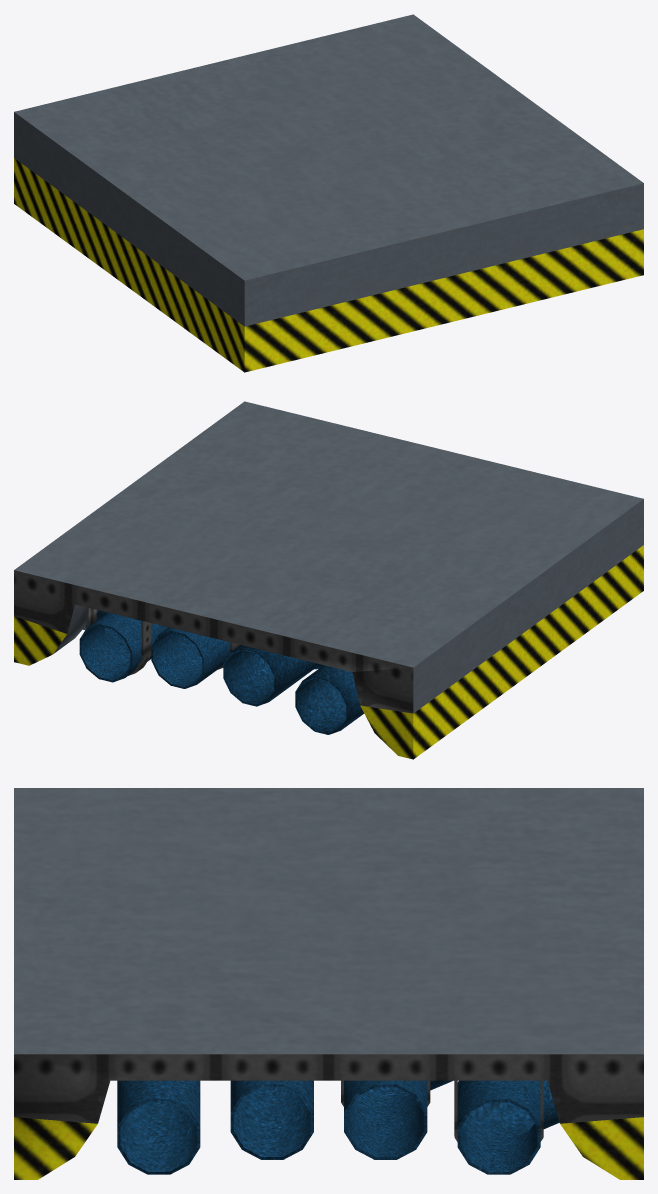
Rendered from CeilingPanels12.fbx.
The picture shows the model from 3 angles, top to bottom: view 1: azimuth 30°, elevation 25°; view 2: azimuth 150°, elevation 25°; view 3: azimuth 270°, elevation 25°; orthographic projection. The views are drawn at different scales.
Visible parts, largest first — view 1: CeilingPanels12; view 2: CeilingPanels12; view 3: CeilingPanels12.
Boxes of the visible parts, x1,y1,x2,y2 form: CeilingPanels12: (14, 14, 643, 372); CeilingPanels12: (14, 401, 643, 759); CeilingPanels12: (14, 788, 643, 1179).
Size of the model in its own units: 200 by 44 by 200.
